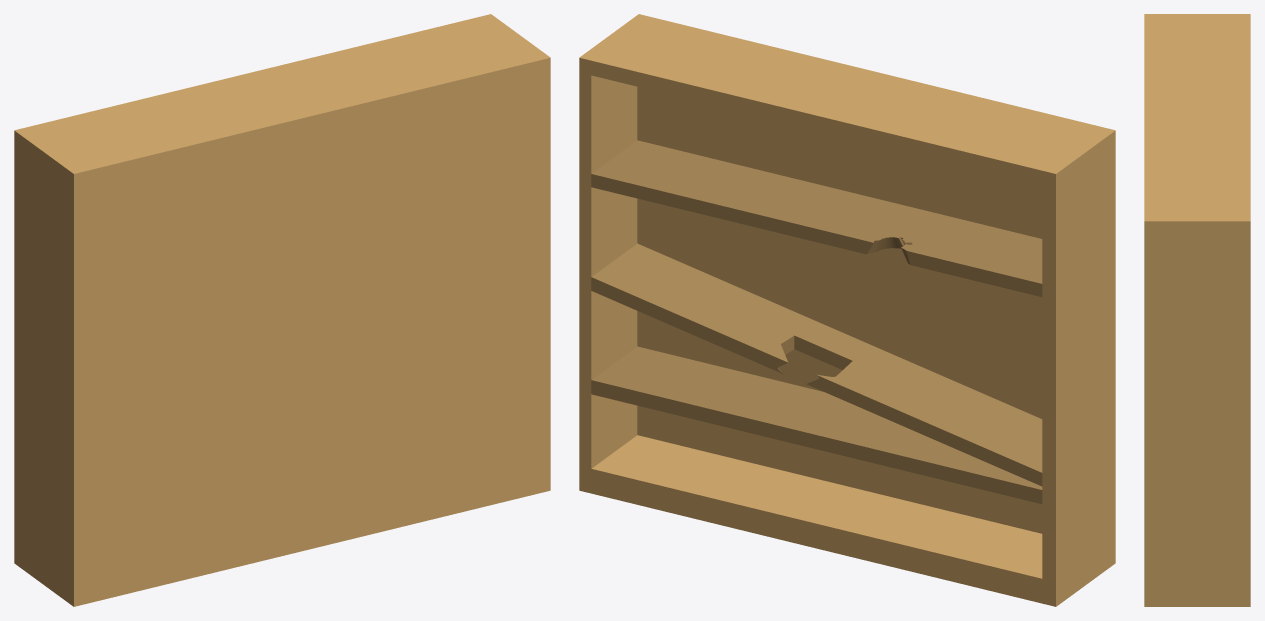
File: SHELF2.fbx
The picture shows the model from 3 angles, left to right: view 1: azimuth 30°, elevation 25°; view 2: azimuth 150°, elevation 25°; view 3: azimuth 270°, elevation 25°; orthographic projection. The views are drawn at different scales.
Visible parts, largest first — view 1: shelf2; view 2: shelf2; view 3: shelf2.
Part boxes in pixels (x1,y1,x2,y2): shelf2: (14,14,550,606); shelf2: (579,14,1115,606); shelf2: (1144,14,1250,606).
Bounding box in the file's own units: 4.61 × 4 × 1.
